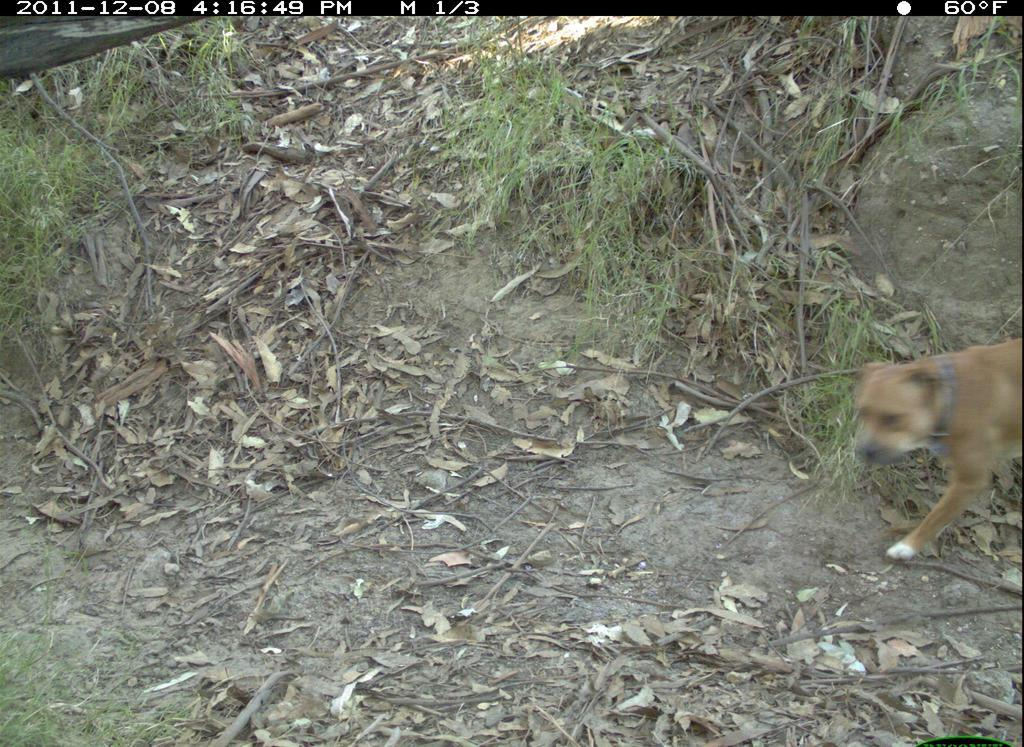dog: (838, 333, 1016, 575)
